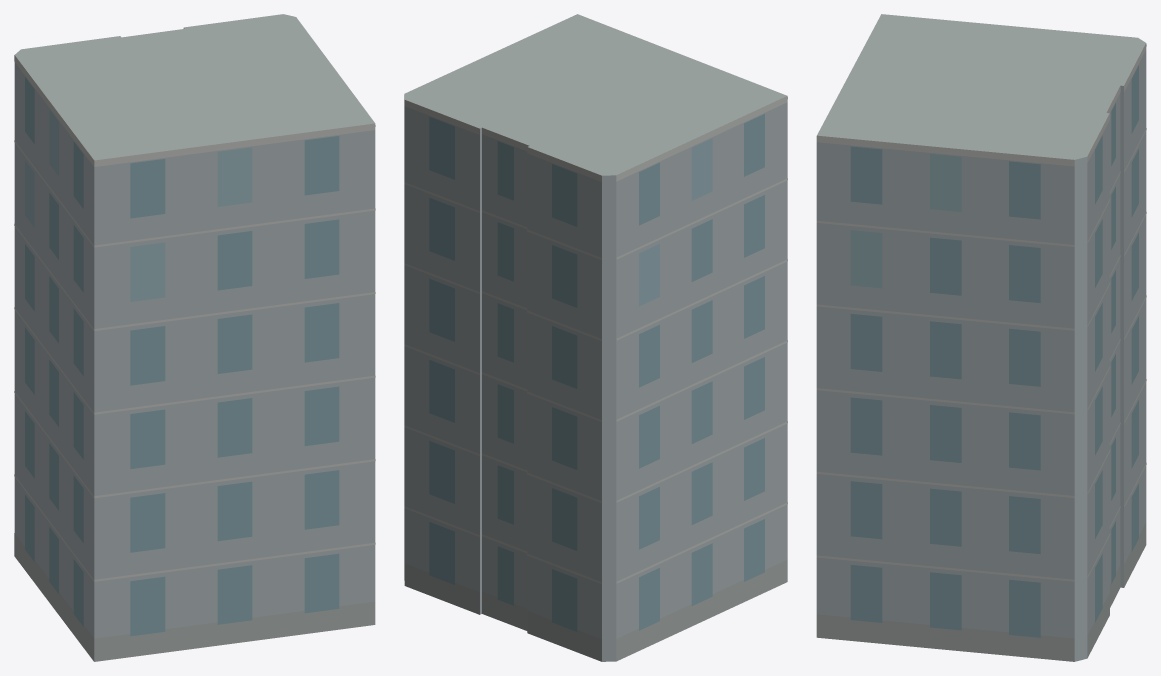
The model's file is survey-upis-32663393.glb.
3 renders of one model, left to right at view 1: azimuth 30°, elevation 25°; view 2: azimuth 150°, elevation 25°; view 3: azimuth 270°, elevation 25°, orthographic. The views are drawn at different scales.
Visible parts, largest first — view 1: survey-upis-32663393.tmp; view 2: survey-upis-32663393.tmp; view 3: survey-upis-32663393.tmp.
Part boxes in pixels (x1=…): survey-upis-32663393.tmp: x1=14, y1=14, x2=375, y2=661; survey-upis-32663393.tmp: x1=404, y1=14, x2=787, y2=661; survey-upis-32663393.tmp: x1=816, y1=14, x2=1146, y2=661.
Size of the model in its own units: 11.55 by 18.5 by 11.03.
